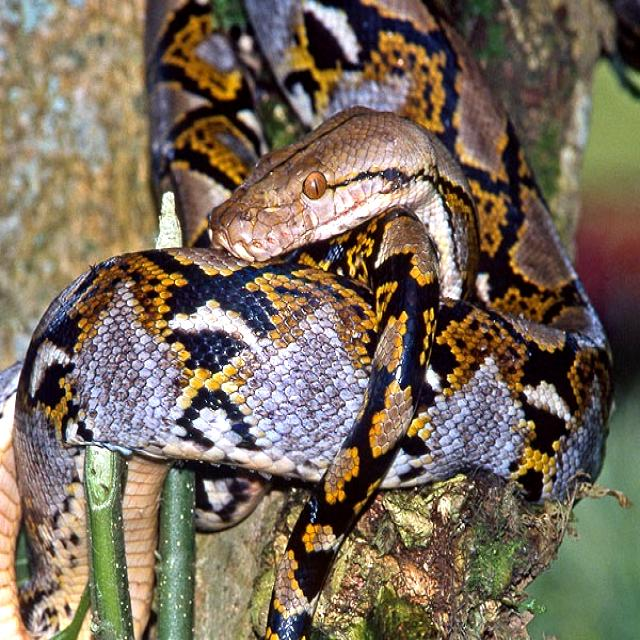Malayopython reticulatus: (0, 2, 610, 639)
